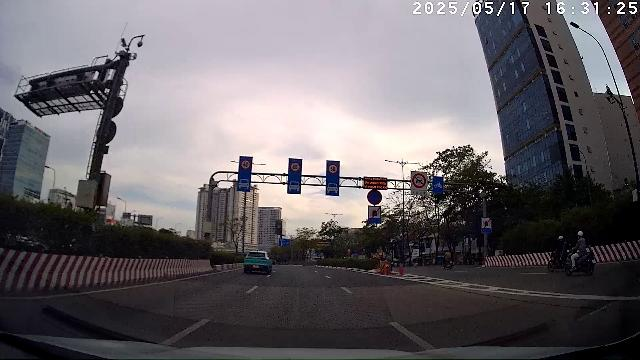103a-cam-oto: (412, 174, 426, 188)
127-toc-do-toi-da-60: (241, 159, 251, 169), (290, 162, 300, 172), (328, 164, 338, 174)
